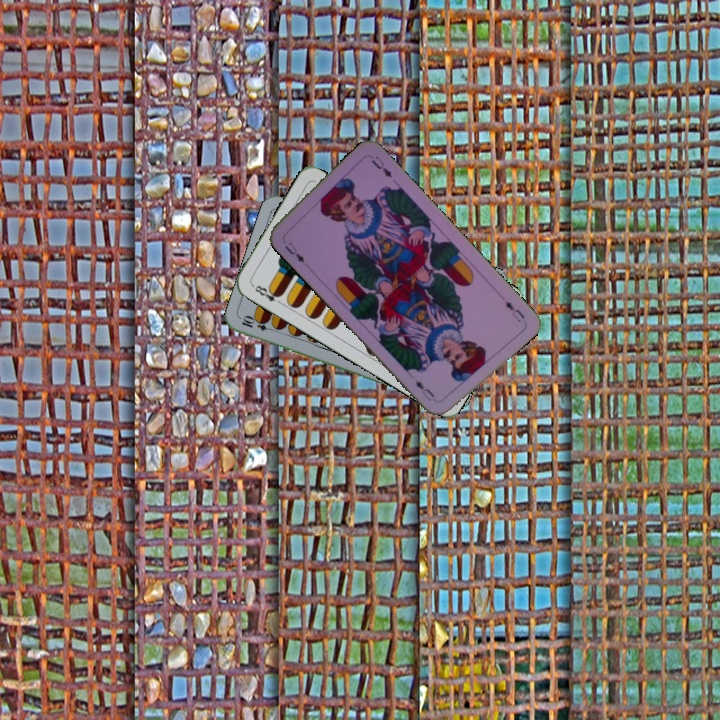E10: (238, 313, 278, 334)
E8: (248, 281, 285, 307)
EU: (280, 238, 307, 266), (501, 297, 527, 325)
